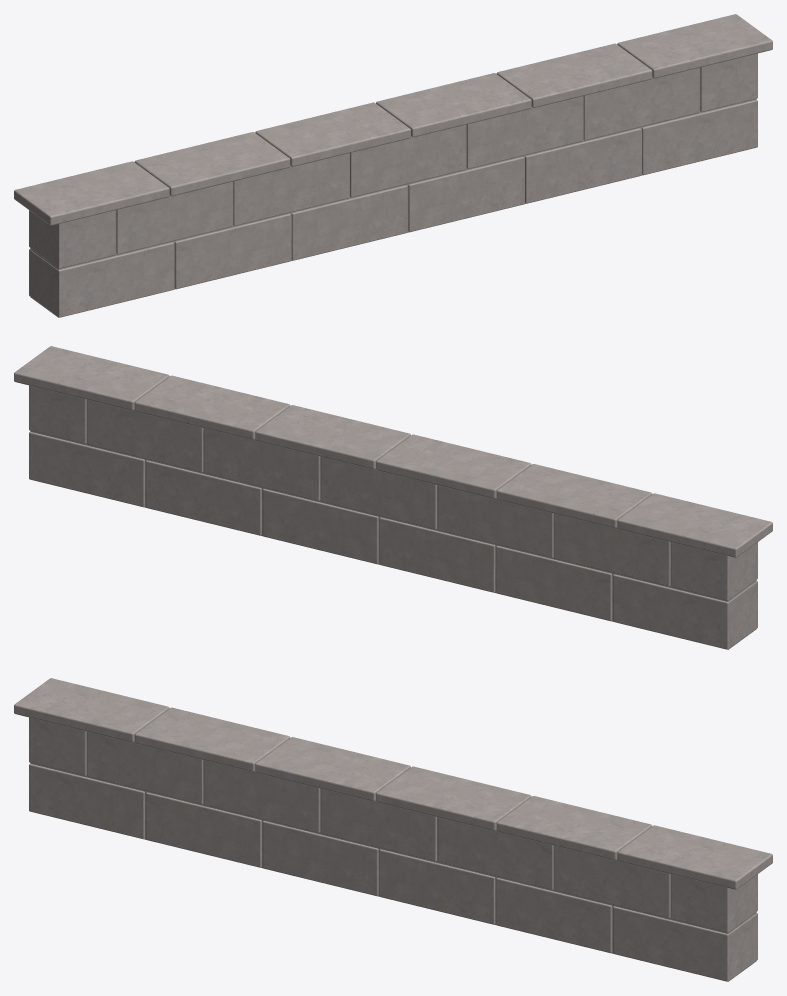
File: coastal-wall.glb
3 views of the same model, one above another, from view 1: azimuth 30°, elevation 25°; view 2: azimuth 150°, elevation 25°; view 3: azimuth 330°, elevation 25° (orthographic).
Parts seen in each view (by area): view 1: wall_visual; view 2: wall_visual; view 3: wall_visual.
Boxes of the visible parts, x1=… form: wall_visual: x1=14, y1=14, x2=772, y2=317; wall_visual: x1=14, y1=346, x2=772, y2=649; wall_visual: x1=14, y1=678, x2=772, y2=981.
Bounding box in the file's own units: 6.19 × 0.88 × 0.55.
Materials: 1 (1 with a texture image).
